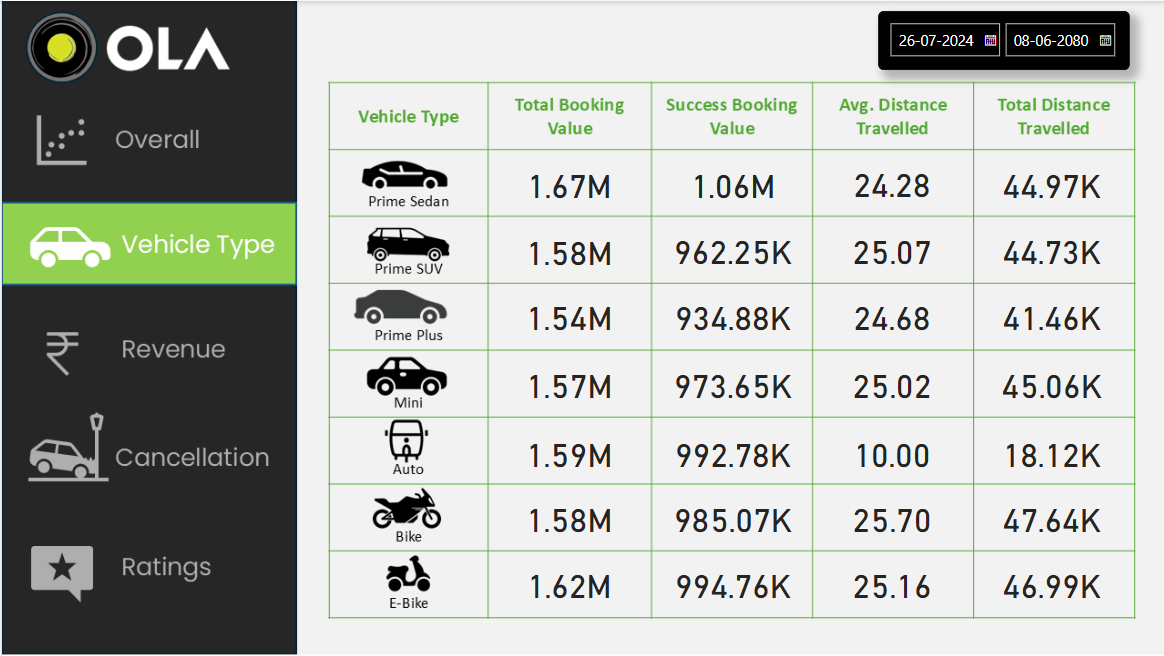

The dashboard page shown, as its layout file describes it:
{"tool":"powerbi","page":{"name":"Vehicle Type","canvas":[1280,720],"ordinal":1},"visuals":[{"type":"actionButton","box":[0,220.8,324.5,91.7],"z":0},{"type":"actionButton","box":[0,339,324.5,91.7],"z":1000},{"type":"actionButton","box":[0,454.8,324.5,91.7],"z":2000},{"type":"actionButton","box":[0,581.5,324.5,91.7],"z":3000},{"type":"actionButton","box":[0,107.4,324.5,91.7],"z":4000},{"type":"card","fields":{"Values":["Sum(Bookings.Booking_Value)"]},"box":[537.9,168.8,170.2,63.1],"z":5000},{"type":"card","fields":{"Values":["Sum(Bookings.Booking_Value)"]},"box":[537.9,242.9,170.2,63.1],"z":6000},{"type":"card","fields":{"Values":["Sum(Bookings.Booking_Value)"]},"box":[537.9,314.2,170.2,63.1],"z":7000},{"type":"card","fields":{"Values":["Sum(Bookings.Booking_Value)"]},"box":[537.9,388.3,170.2,63.1],"z":8000},{"type":"card","fields":{"Values":["Sum(Bookings.Booking_Value)"]},"box":[537.9,463.8,170.2,63.1],"z":9000},{"type":"card","fields":{"Values":["Sum(Bookings.Booking_Value)"]},"box":[537.9,535.2,170.2,63.1],"z":10000},{"type":"card","fields":{"Values":["Sum(Bookings.Booking_Value)"]},"box":[537.9,607.9,170.2,63.1],"z":11000},{"type":"card","fields":{"Values":["Sum(Bookings.Booking_Value)"]},"box":[717.7,607.9,170.2,63.1],"z":12000},{"type":"card","fields":{"Values":["Sum(Bookings.Booking_Value)"]},"box":[717.7,535.2,170.2,63.1],"z":13000},{"type":"card","fields":{"Values":["Sum(Bookings.Booking_Value)"]},"box":[717.7,463.8,170.2,63.1],"z":14000},{"type":"card","fields":{"Values":["Sum(Bookings.Booking_Value)"]},"box":[717.7,388.3,170.2,63.1],"z":15000},{"type":"card","fields":{"Values":["Sum(Bookings.Booking_Value)"]},"box":[717.7,314.2,170.2,63.1],"z":16000},{"type":"card","fields":{"Values":["Sum(Bookings.Booking_Value)"]},"box":[717.7,241.5,170.2,63.1],"z":17000},{"type":"card","fields":{"Values":["Sum(Bookings.Booking_Value)"]},"box":[717.7,168.8,170.2,63.1],"z":18000},{"type":"card","fields":{"Values":["Avg(Bookings.Ride_Distance)"]},"box":[891.9,167.4,170.2,63.1],"z":19000},{"type":"card","fields":{"Values":["Avg(Bookings.Ride_Distance)"]},"box":[891.9,241.5,170.2,63.1],"z":20000},{"type":"card","fields":{"Values":["Avg(Bookings.Ride_Distance)"]},"box":[891.9,314.2,170.2,63.1],"z":21000},{"type":"card","fields":{"Values":["Avg(Bookings.Ride_Distance)"]},"box":[891.9,388.3,170.2,63.1],"z":22000},{"type":"card","fields":{"Values":["Avg(Bookings.Ride_Distance)"]},"box":[891.9,463.8,170.2,63.1],"z":23000},{"type":"card","fields":{"Values":["Avg(Bookings.Ride_Distance)"]},"box":[891.9,535.2,170.2,63.1],"z":24000},{"type":"card","fields":{"Values":["Avg(Bookings.Ride_Distance)"]},"box":[891.9,607.9,170.2,63.1],"z":25000},{"type":"card","fields":{"Values":["Sum(Bookings.Ride_Distance)"]},"box":[1067.6,168.8,170.2,63.1],"z":26000},{"type":"card","fields":{"Values":["Sum(Bookings.Ride_Distance)"]},"box":[1067.6,241.5,170.2,63.1],"z":27000},{"type":"card","fields":{"Values":["Sum(Bookings.Ride_Distance)"]},"box":[1067.6,314.2,170.2,63.1],"z":28000},{"type":"card","fields":{"Values":["Sum(Bookings.Ride_Distance)"]},"box":[1067.6,388.3,170.2,63.1],"z":29000},{"type":"card","fields":{"Values":["Sum(Bookings.Ride_Distance)"]},"box":[1067.6,463.8,170.2,63.1],"z":30000},{"type":"card","fields":{"Values":["Sum(Bookings.Ride_Distance)"]},"box":[1067.6,535.2,170.2,63.1],"z":31000},{"type":"card","fields":{"Values":["Sum(Bookings.Ride_Distance)"]},"box":[1067.6,607.9,170.2,63.1],"z":32000},{"type":"slicer","title":"Date","fields":{"Values":["Bookings.Date"]},"box":[961.9,11,275.8,64.5],"z":33000}]}

Visuals, with their boxes on the page's 1280x720 design canvas (x1, y1, x2, y2). These are canvas units, not pixel positions in the 1164x656 screenshot, which may show the page scaled, cropped or inside an application window:
actionButton: [left=0, top=221, right=324, bottom=312]
actionButton: [left=0, top=339, right=324, bottom=431]
actionButton: [left=0, top=455, right=324, bottom=546]
actionButton: [left=0, top=582, right=324, bottom=673]
actionButton: [left=0, top=107, right=324, bottom=199]
card - Sum(Bookings.Booking_Value): [left=538, top=169, right=708, bottom=232]
card - Sum(Bookings.Booking_Value): [left=538, top=243, right=708, bottom=306]
card - Sum(Bookings.Booking_Value): [left=538, top=314, right=708, bottom=377]
card - Sum(Bookings.Booking_Value): [left=538, top=388, right=708, bottom=451]
card - Sum(Bookings.Booking_Value): [left=538, top=464, right=708, bottom=527]
card - Sum(Bookings.Booking_Value): [left=538, top=535, right=708, bottom=598]
card - Sum(Bookings.Booking_Value): [left=538, top=608, right=708, bottom=671]
card - Sum(Bookings.Booking_Value): [left=718, top=608, right=888, bottom=671]
card - Sum(Bookings.Booking_Value): [left=718, top=535, right=888, bottom=598]
card - Sum(Bookings.Booking_Value): [left=718, top=464, right=888, bottom=527]
card - Sum(Bookings.Booking_Value): [left=718, top=388, right=888, bottom=451]
card - Sum(Bookings.Booking_Value): [left=718, top=314, right=888, bottom=377]
card - Sum(Bookings.Booking_Value): [left=718, top=242, right=888, bottom=305]
card - Sum(Bookings.Booking_Value): [left=718, top=169, right=888, bottom=232]
card - Avg(Bookings.Ride_Distance): [left=892, top=167, right=1062, bottom=230]
card - Avg(Bookings.Ride_Distance): [left=892, top=242, right=1062, bottom=305]
card - Avg(Bookings.Ride_Distance): [left=892, top=314, right=1062, bottom=377]
card - Avg(Bookings.Ride_Distance): [left=892, top=388, right=1062, bottom=451]
card - Avg(Bookings.Ride_Distance): [left=892, top=464, right=1062, bottom=527]
card - Avg(Bookings.Ride_Distance): [left=892, top=535, right=1062, bottom=598]
card - Avg(Bookings.Ride_Distance): [left=892, top=608, right=1062, bottom=671]
card - Sum(Bookings.Ride_Distance): [left=1068, top=169, right=1238, bottom=232]
card - Sum(Bookings.Ride_Distance): [left=1068, top=242, right=1238, bottom=305]
card - Sum(Bookings.Ride_Distance): [left=1068, top=314, right=1238, bottom=377]
card - Sum(Bookings.Ride_Distance): [left=1068, top=388, right=1238, bottom=451]
card - Sum(Bookings.Ride_Distance): [left=1068, top=464, right=1238, bottom=527]
card - Sum(Bookings.Ride_Distance): [left=1068, top=535, right=1238, bottom=598]
card - Sum(Bookings.Ride_Distance): [left=1068, top=608, right=1238, bottom=671]
"Date" slicer: [left=962, top=11, right=1238, bottom=76]
